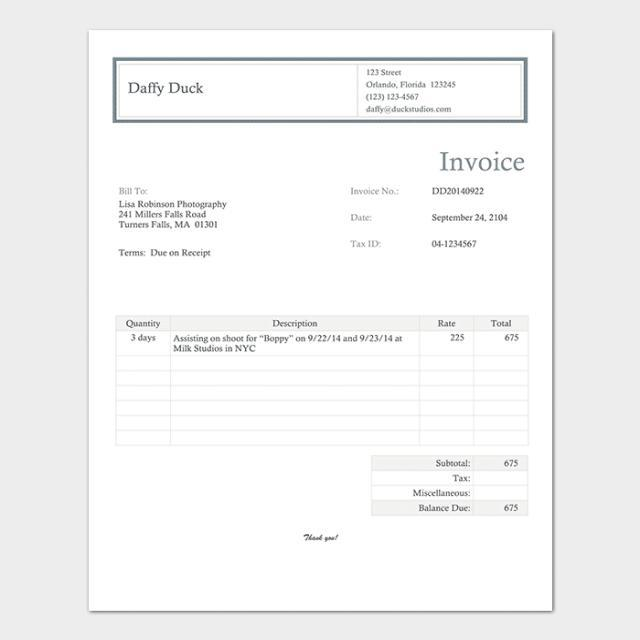ROI: (116, 314, 525, 367), (347, 182, 511, 254), (400, 452, 532, 516), (115, 181, 233, 233), (361, 65, 460, 117), (435, 145, 528, 175), (124, 74, 208, 100), (114, 243, 219, 261), (300, 526, 345, 546)
